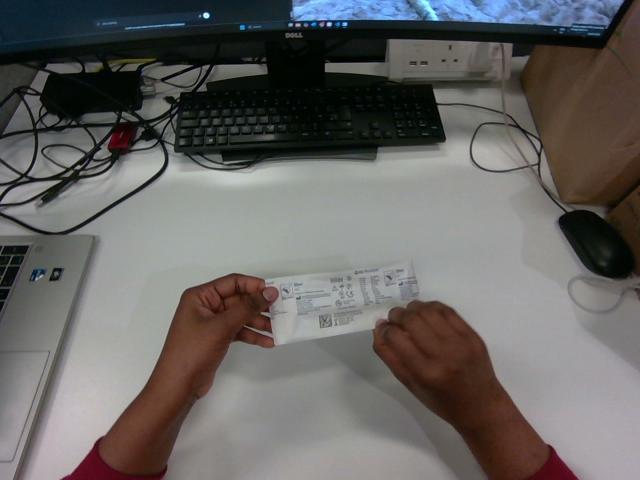syringe: (266, 262, 418, 344)
